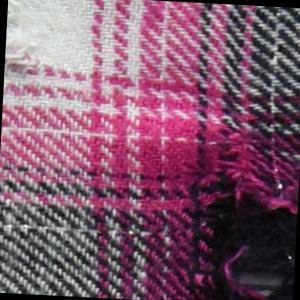Damage: (185, 123, 300, 300), (4, 1, 49, 97)
